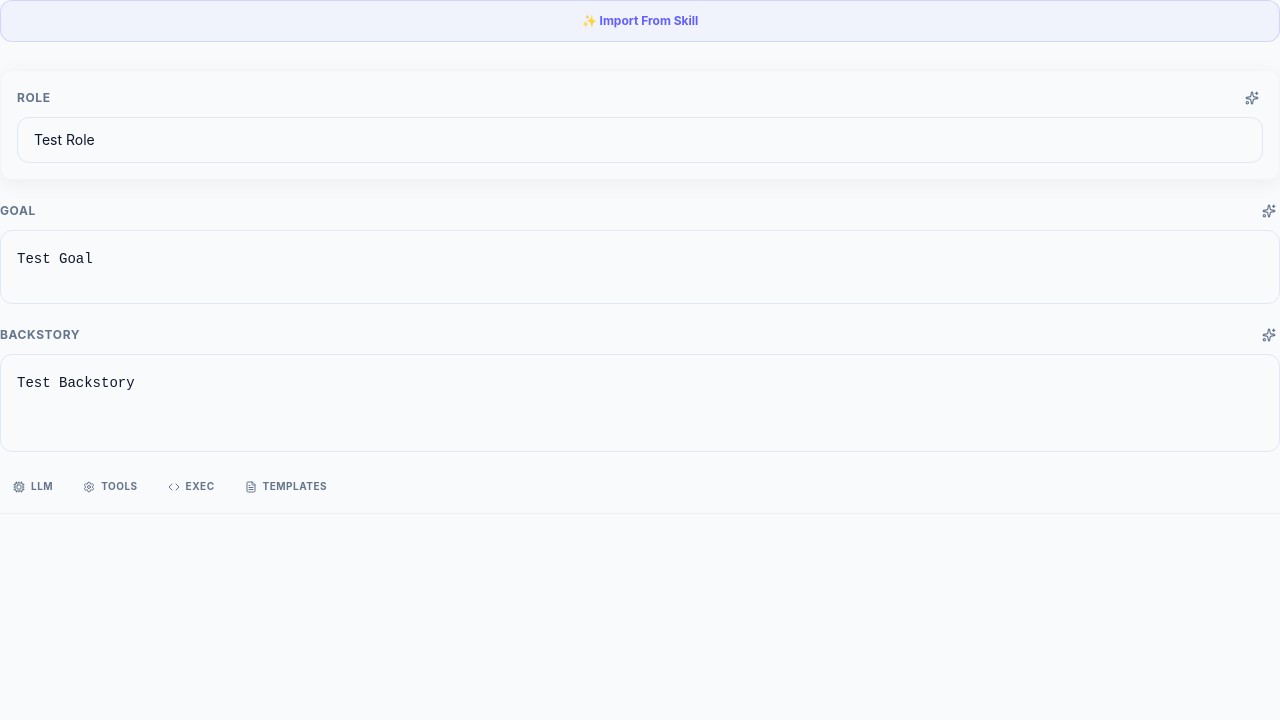
Test: AgentForm › renders MCP selector content when open
Click the button "Tools".
click(110, 486)  # box [70, 472, 151, 501]
(page scrolled)
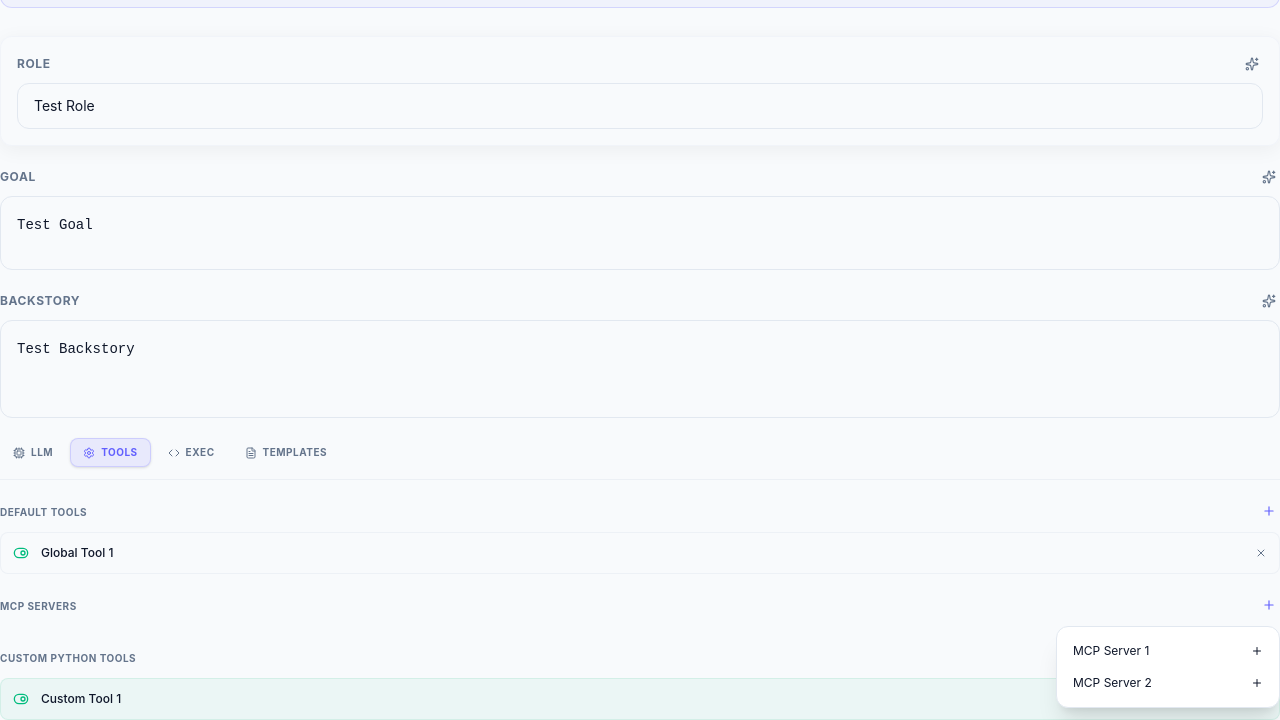
Expected: the button "MCP Server 1" is shown, [1061, 635, 1275, 667]
Expected: the button "MCP Server 2" is shown, [1061, 667, 1275, 699]
